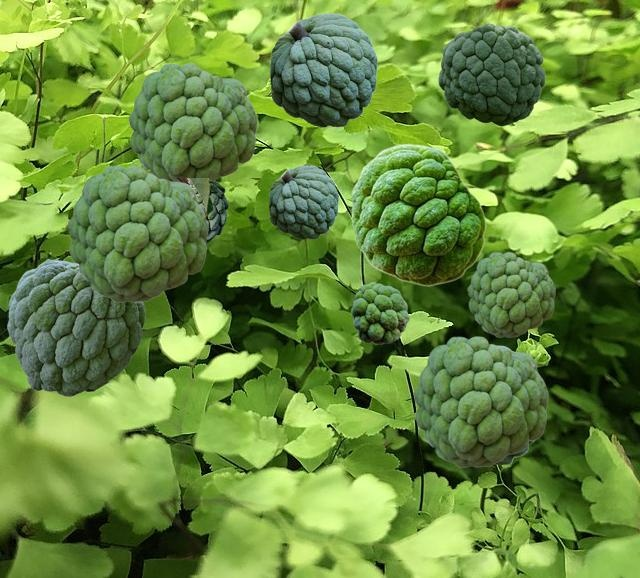atis: (67, 165, 207, 301), (351, 143, 485, 285), (7, 259, 144, 395), (413, 336, 547, 466), (128, 63, 256, 180), (270, 13, 376, 126), (438, 23, 544, 125), (467, 252, 554, 336), (175, 178, 260, 243), (269, 165, 337, 238), (495, 345, 534, 464), (351, 282, 408, 343)
